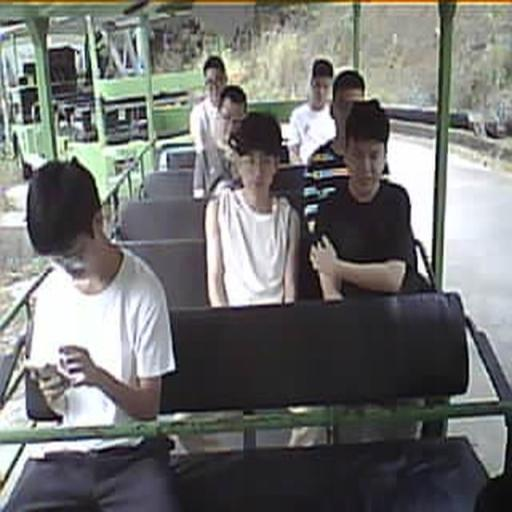persona: (2, 156, 180, 510), (309, 98, 426, 302), (204, 111, 308, 308), (193, 86, 248, 200), (188, 55, 230, 199), (308, 69, 366, 167), (285, 58, 337, 165)
